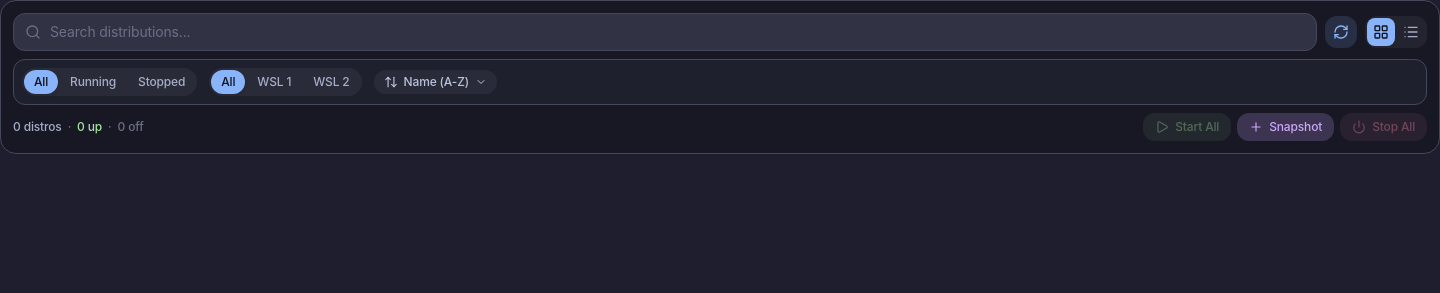
Test: DistrosToolbar › opens sort dropdown when sort button is clicked
What coordinates should you click on to do the following:
click the button "Name (A-Z)"
I would click on:
 (435, 82)
Its box is [374,70,497,94].
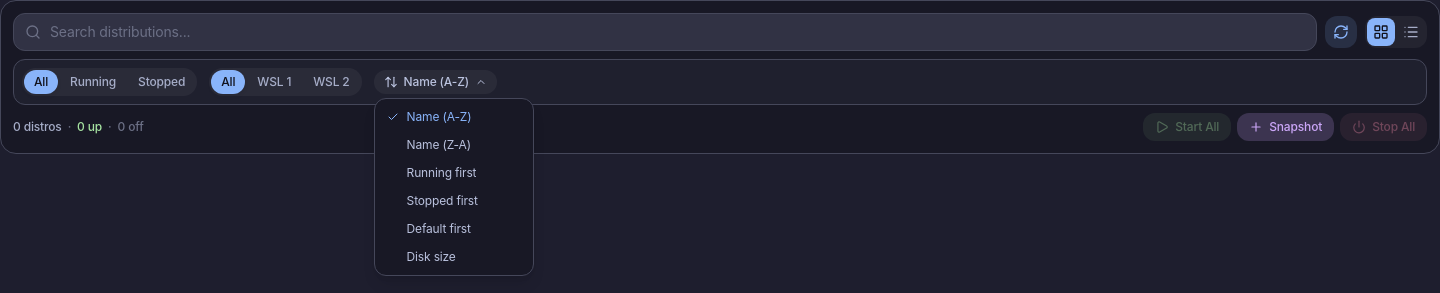
Expected: the text "Name (Z-A)" is shown, [407,137,471,153]
Expected: the text "Running first" is shown, [407,165,476,181]
Expected: the text "Disk size" is shown, [407,249,456,265]
